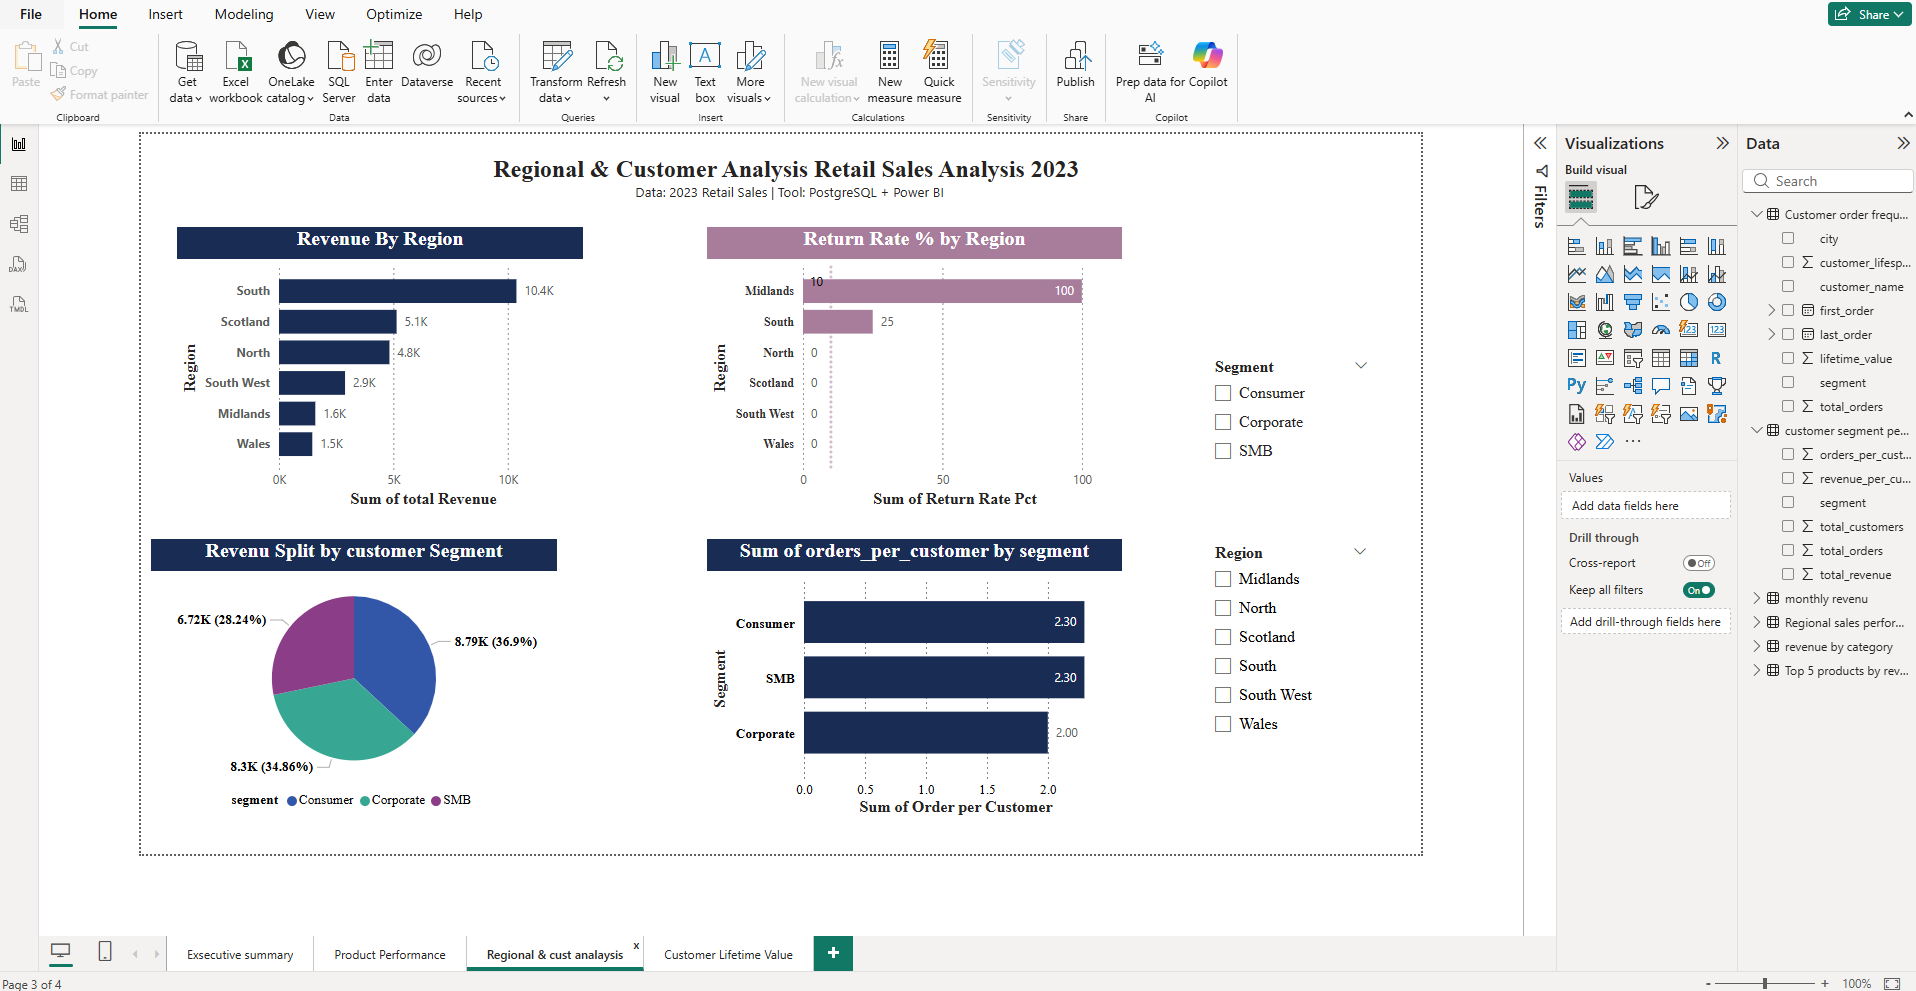

This screenshot's page, from the dashboard's own definition file:
{"tool":"powerbi","page":{"name":"Regional & cust analaysis","canvas":[1280,720],"ordinal":2},"visuals":[{"type":"textbox","box":[9.8,0,1270.7,100],"z":0},{"type":"clusteredBarChart","title":"Revenue By Region","fields":{"Category":["Regional sales performance.region"],"Y":["Sum(Regional sales performance.total_revenue)"]},"box":[35.8,93.1,406.6,284.8],"z":1000},{"type":"clusteredBarChart","title":"Return Rate % by Region","fields":{"Category":["Regional sales performance.region"],"Y":["Sum(Regional sales performance.return_rate_pct)"]},"box":[566,93.1,415.5,284.8],"z":2000},{"type":"pieChart","title":"Revenu Split by customer Segment","fields":{"Category":["customer segment performance.segment"],"Y":["Sum(customer segment performance.total_revenue)"]},"box":[9.9,404.8,406.6,281.2],"z":3000},{"type":"clusteredBarChart","fields":{"Category":["customer segment performance.segment"],"Y":["Sum(customer segment performance.orders_per_customer)"]},"box":[566,404.8,415.5,281.2],"z":4000},{"type":"slicer","fields":{"Values":["customer segment performance.segment"]},"box":[1061.2,219.4,177.3,140.6],"z":5000},{"type":"slicer","fields":{"Values":["Regional sales performance.region"]},"box":[1061.2,404.8,176.4,204.2],"z":6000}]}

Visuals, with their boxes on the page's 1280x720 design canvas (x1, y1, x2, y2). These are canvas units, not pixel positions in the 1916x991 screenshot, which may show the page scaled, cropped or inside an application window:
textbox: [10,0,1280,100]
"Revenue By Region" clusteredBarChart: [36,93,442,378]
"Return Rate % by Region" clusteredBarChart: [566,93,982,378]
"Revenu Split by customer Segment" pieChart: [10,405,416,686]
clusteredBarChart - customer segment performance.segment x Sum(customer segment performance.orders_per_customer): [566,405,982,686]
slicer - customer segment performance.segment: [1061,219,1238,360]
slicer - Regional sales performance.region: [1061,405,1238,609]
